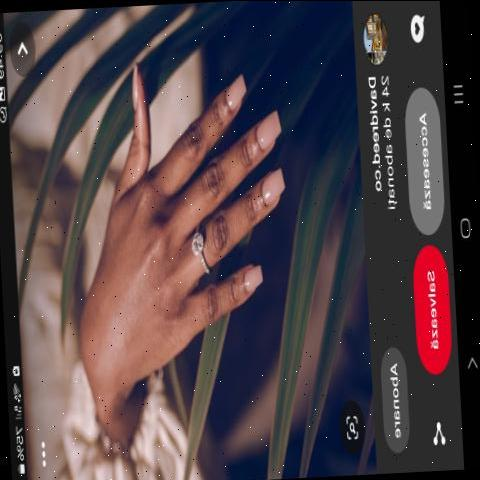Hands: (62, 58, 330, 410)
